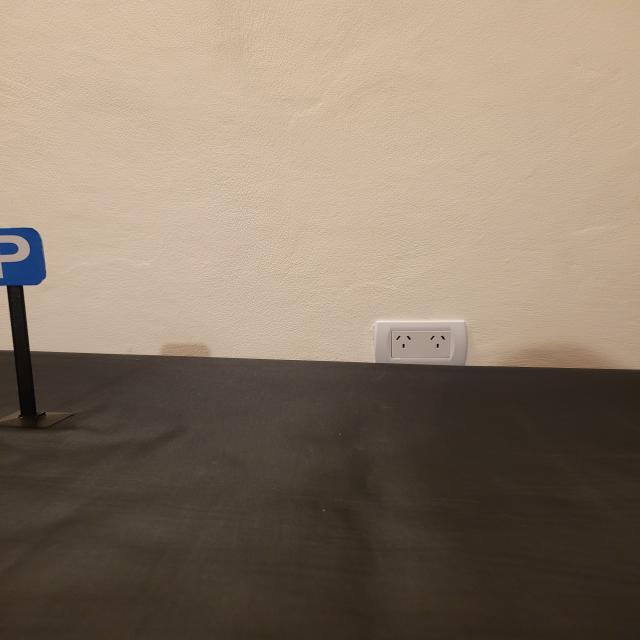parking: (0, 226, 47, 286)
